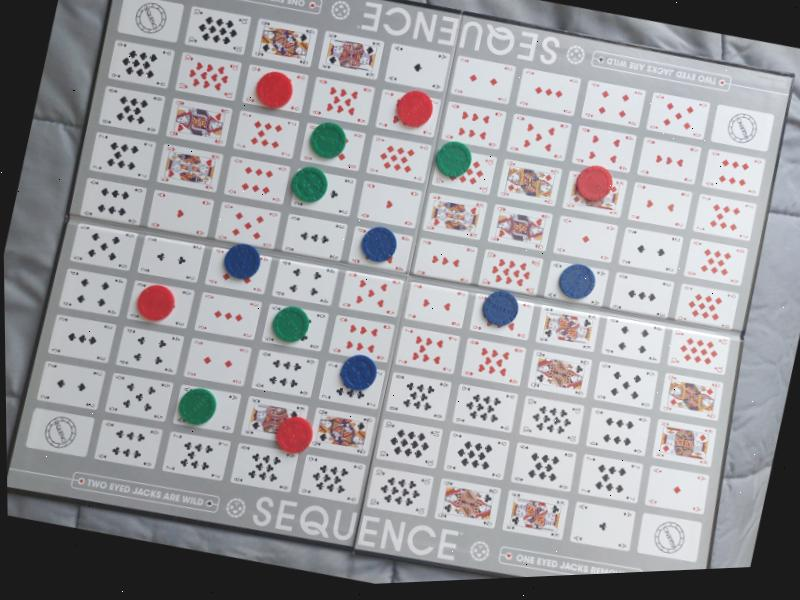Blue_Token: (474, 280, 528, 335), (332, 344, 386, 397), (217, 236, 269, 288), (353, 219, 406, 270), (552, 255, 601, 307), (570, 157, 618, 208)
Board: (0, 0, 800, 600)
Green_Token: (265, 299, 318, 351), (303, 115, 353, 166), (173, 381, 223, 432), (285, 159, 333, 210), (430, 135, 479, 184)
Red_Token: (267, 409, 319, 461), (130, 278, 180, 329), (249, 65, 298, 115), (392, 85, 438, 134)
